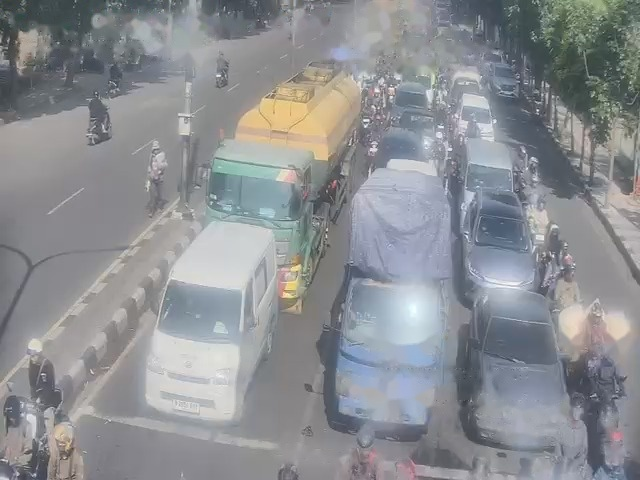Mobil: (155, 225, 276, 425), (476, 290, 560, 446), (459, 188, 527, 294)
Motor: (526, 191, 550, 252), (588, 382, 610, 433), (89, 119, 112, 144), (214, 53, 228, 87)
Truk: (199, 65, 351, 313)
